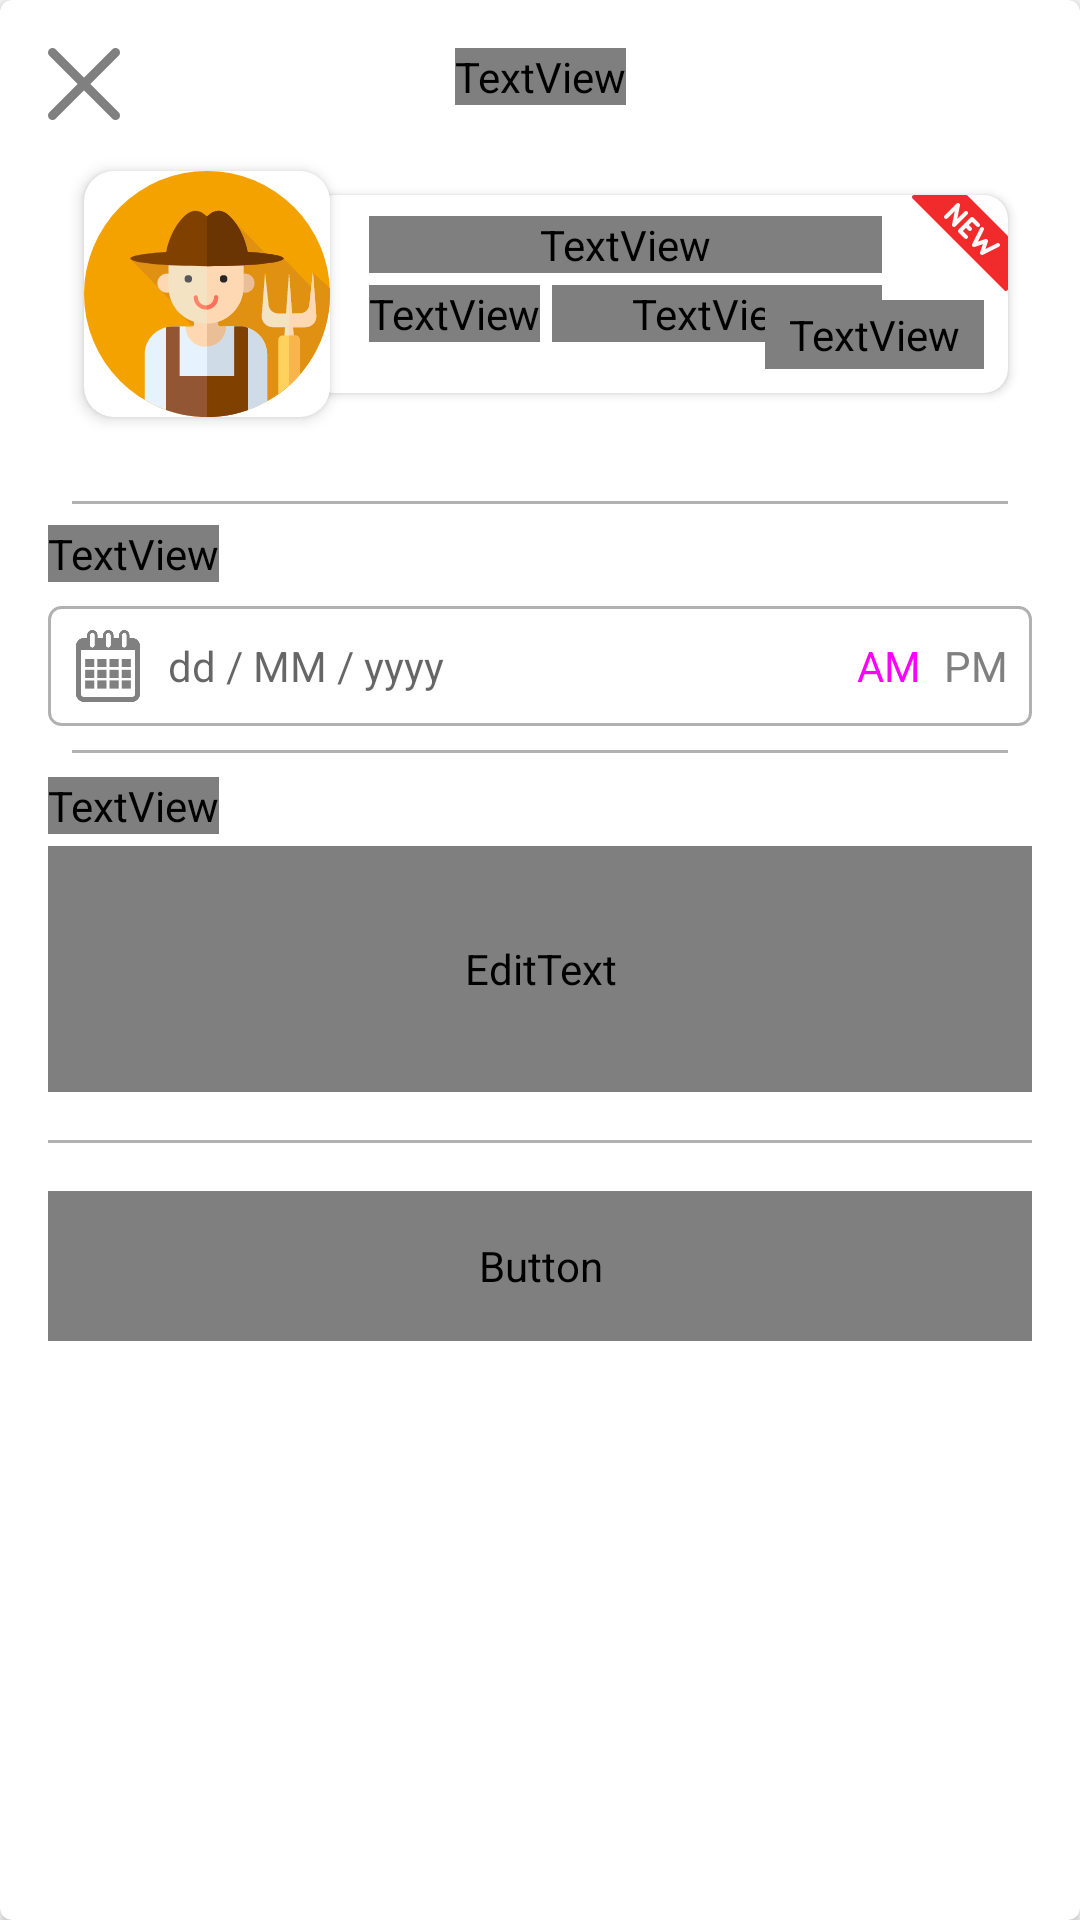

Named icons in this screenshot (1080 × 1920) and their bounding boxes, (x1, y1, x2, y2):
close: (48, 48, 120, 120)
farmer: (84, 171, 330, 417)
